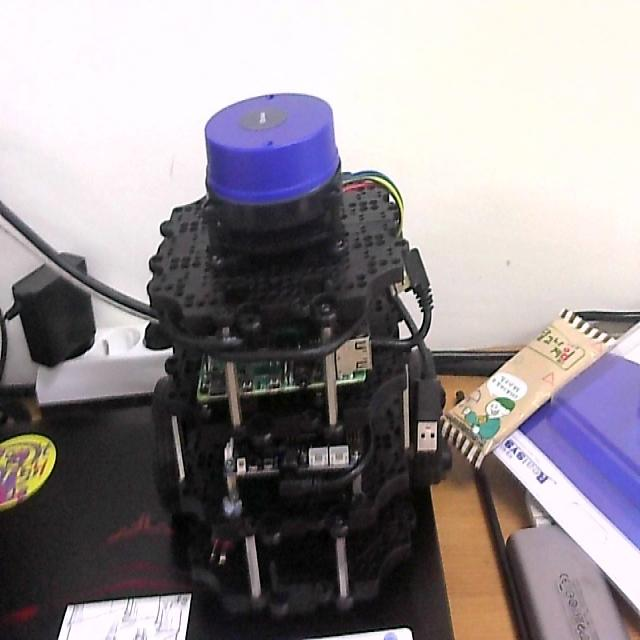turtle: (144, 91, 446, 628)
